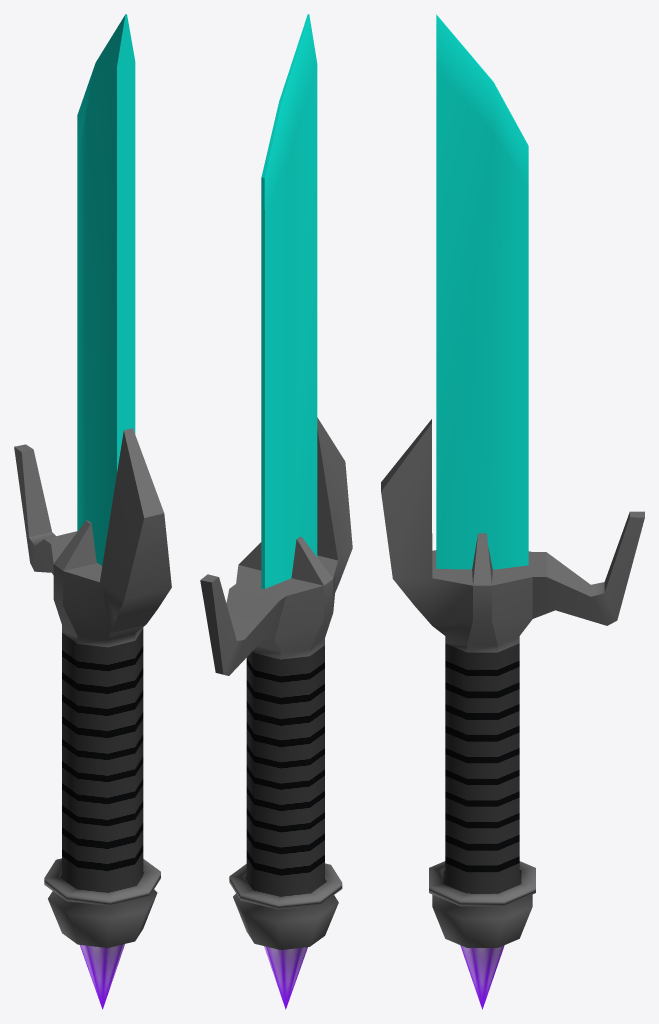
File: BeamSwordFBX.fbx
3 views of the same model, side by side, from view 1: azimuth 30°, elevation 25°; view 2: azimuth 150°, elevation 25°; view 3: azimuth 270°, elevation 25° (orthographic). The views are drawn at different scales.
Parts seen in each view (by area): view 1: Hilt, Blade; view 2: Hilt, Blade; view 3: Hilt, Blade.
Part boxes in pixels (bbox=[...]): Hilt: bbox=[14, 428, 171, 1009]; Blade: bbox=[77, 14, 135, 565]; Hilt: bbox=[200, 417, 352, 1009]; Blade: bbox=[261, 14, 317, 588]; Hilt: bbox=[381, 419, 644, 1009]; Blade: bbox=[436, 14, 528, 569].
Bounding box in the file's own units: 1.97 × 20.18 × 4.85.
